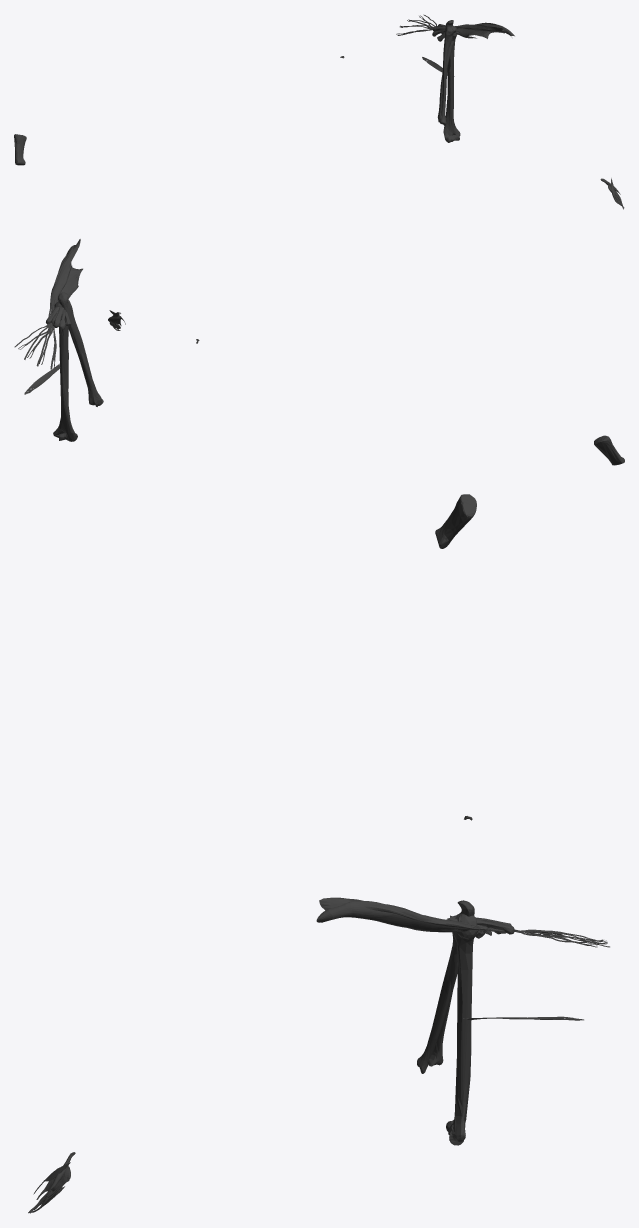
The model's file is sharedassets9.glb.
The picture shows the model from 3 angles, top to bottom: view 1: azimuth 30°, elevation 25°; view 2: azimuth 150°, elevation 25°; view 3: azimuth 270°, elevation 25°; orthographic projection. The views are drawn at different scales.
Parts seen in each view (by area): view 1: 0000_Humerus _arm, brachium_, R__000807, 0031_Flexor digitorum superficialis, R__10001, 0001_Ulna _forearm, antebrachium_, R__000808, 0032_Flexor digitorum profundus, R__1000168, 0007_2nd Middle phalanx _hand_, R__000815; view 2: 0000_Humerus _arm, brachium_, R__000807, 0031_Flexor digitorum superficialis, R__10001, 0032_Flexor digitorum profundus, R__1000168, 0001_Ulna _forearm, antebrachium_, R__000808, 0002_Radius _forearm, antebrachium_, R__00080, 0007_2nd Middle phalanx _hand_, R__000815; view 3: 0000_Humerus _arm, brachium_, R__000807, 0031_Flexor digitorum superficialis, R__10001, 0032_Flexor digitorum profundus, R__1000168, 0001_Ulna _forearm, antebrachium_, R__000808, 0007_2nd Middle phalanx _hand_, R__000815.
Part boxes in pixels (x1,y1,x2,y2): 0000_Humerus _arm, brachium_, R__000807: (443, 25, 460, 142); 0031_Flexor digitorum superficialis, R__10001: (396, 15, 514, 38); 0001_Ulna _forearm, antebrachium_, R__000808: (440, 20, 455, 126); 0032_Flexor digitorum profundus, R__1000168: (397, 14, 505, 35); 0007_2nd Middle phalanx _hand_, R__000815: (14, 134, 26, 165); 0000_Humerus _arm, brachium_, R__000807: (53, 301, 77, 441); 0031_Flexor digitorum superficialis, R__10001: (18, 245, 82, 368); 0032_Flexor digitorum profundus, R__1000168: (14, 239, 80, 369); 0001_Ulna _forearm, antebrachium_, R__000808: (58, 292, 103, 406); 0002_Radius _forearm, antebrachium_, R__00080: (68, 326, 101, 405); 0007_2nd Middle phalanx _hand_, R__000815: (594, 435, 624, 465); 0000_Humerus _arm, brachium_, R__000807: (446, 914, 477, 1145); 0031_Flexor digitorum superficialis, R__10001: (316, 901, 607, 945); 0032_Flexor digitorum profundus, R__1000168: (319, 897, 609, 947); 0001_Ulna _forearm, antebrachium_, R__000808: (417, 900, 474, 1073); 0007_2nd Middle phalanx _hand_, R__000815: (435, 494, 476, 548).
Bounding box in the file's own units: 0.7467 × 0.1925 × 0.3719.
1 material, 1 textured.
